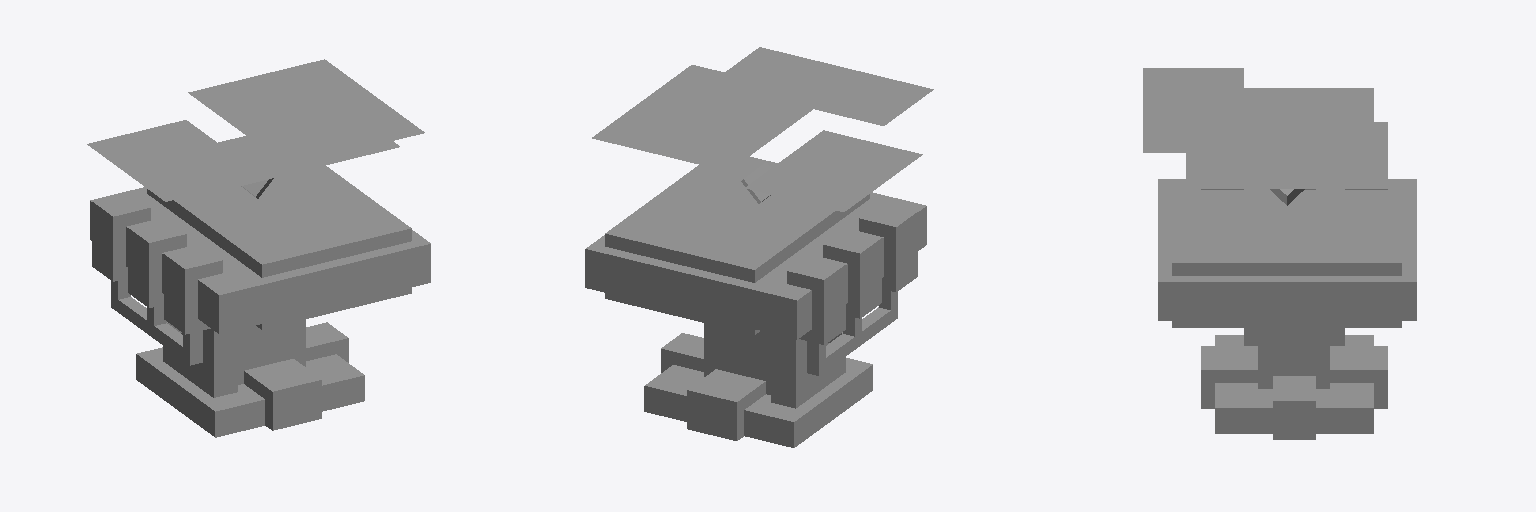
Rendered from TinkerTable.obj.
The picture shows the model from 3 angles: view 1: azimuth 30°, elevation 25°; view 2: azimuth 150°, elevation 25°; view 3: azimuth 270°, elevation 25°; orthographic projection.
Visible parts, largest first — view 1: uppertable_wirelong1.050, middletable_wirelong1.042, screen3_wirelong1.048, screen1_wirelong1.053, footbase_wirelong1.051, screen2_wirelong1.044, fatfoot1_wirelong1.049, tank3_wirelong1.045, tank1_wirelong1.056, tank2_wirelong1.046, backsupport_wirelong1.052, particles_wirelong1.058 (+2 smaller); view 2: uppertable_wirelong1.050, middletable_wirelong1.042, screen3_wirelong1.048, screen1_wirelong1.053, screen2_wirelong1.044, footbase_wirelong1.051, fatfoot2_wirelong1.047, tank1_wirelong1.056, tank3_wirelong1.045, tank2_wirelong1.046, backsupport_wirelong1.052, particles_wirelong1.058 (+2 smaller); view 3: uppertable_wirelong1.050, middletable_wirelong1.042, screen3_wirelong1.048, screen1_wirelong1.053, footbase_wirelong1.051, screen2_wirelong1.044, particles_wirelong1.058, foot1_wirelong1.060, fatfoot2_wirelong1.047, fatfoot1_wirelong1.049.
Part boxes in pixels (left/top/right/bottom): uppertable_wirelong1.050: left=147, top=165, right=411, bottom=329; middletable_wirelong1.042: left=90, top=187, right=430, bottom=333; screen3_wirelong1.048: left=188, top=59, right=424, bottom=140; screen1_wirelong1.053: left=177, top=110, right=399, bottom=189; footbase_wirelong1.051: left=136, top=347, right=364, bottom=437; screen2_wirelong1.044: left=87, top=120, right=223, bottom=201; fatfoot1_wirelong1.049: left=244, top=359, right=321, bottom=430; tank3_wirelong1.045: left=164, top=245, right=222, bottom=334; tank1_wirelong1.056: left=92, top=192, right=150, bottom=281; tank2_wirelong1.046: left=128, top=218, right=186, bottom=307; backsupport_wirelong1.052: left=163, top=329, right=237, bottom=397; particles_wirelong1.058: left=238, top=319, right=305, bottom=384; uppertable_wirelong1.050: left=605, top=156, right=869, bottom=334; middletable_wirelong1.042: left=585, top=192, right=926, bottom=339; screen3_wirelong1.048: left=592, top=65, right=812, bottom=171; screen1_wirelong1.053: left=710, top=47, right=933, bottom=125; screen2_wirelong1.044: left=745, top=130, right=922, bottom=211; footbase_wirelong1.051: left=644, top=358, right=872, bottom=447; fatfoot2_wirelong1.047: left=687, top=369, right=765, bottom=440; tank1_wirelong1.056: left=787, top=255, right=845, bottom=344; tank3_wirelong1.045: left=859, top=202, right=917, bottom=292; tank2_wirelong1.046: left=823, top=229, right=881, bottom=318; backsupport_wirelong1.052: left=771, top=333, right=845, bottom=408; particles_wirelong1.058: left=704, top=323, right=770, bottom=394; uppertable_wirelong1.050: left=1172, top=190, right=1401, bottom=327; middletable_wirelong1.042: left=1158, top=179, right=1416, bottom=320; screen3_wirelong1.048: left=1186, top=122, right=1387, bottom=188; screen1_wirelong1.053: left=1143, top=68, right=1243, bottom=152; footbase_wirelong1.051: left=1215, top=335, right=1373, bottom=433; screen2_wirelong1.044: left=1244, top=88, right=1373, bottom=121; particles_wirelong1.058: left=1258, top=328, right=1329, bottom=388; foot1_wirelong1.060: left=1273, top=376, right=1315, bottom=439; fatfoot2_wirelong1.047: left=1330, top=346, right=1387, bottom=408; fatfoot1_wirelong1.049: left=1201, top=346, right=1257, bottom=408.
Bounding box in the file's own units: 1.23 × 1.34 × 1.19.